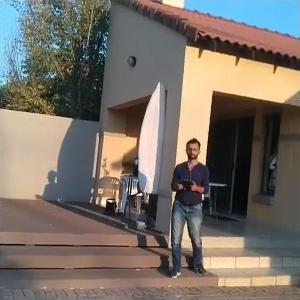follow: (161, 135, 211, 280)
